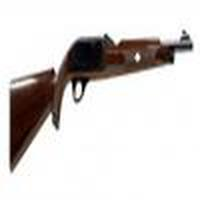gun: (8, 32, 195, 169)
